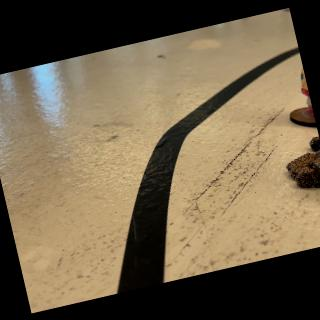teletubby: (300, 66, 314, 116)
